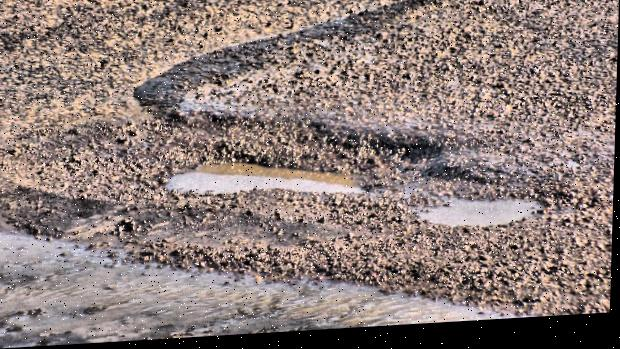pothole: (153, 153, 367, 217), (406, 190, 550, 243)
